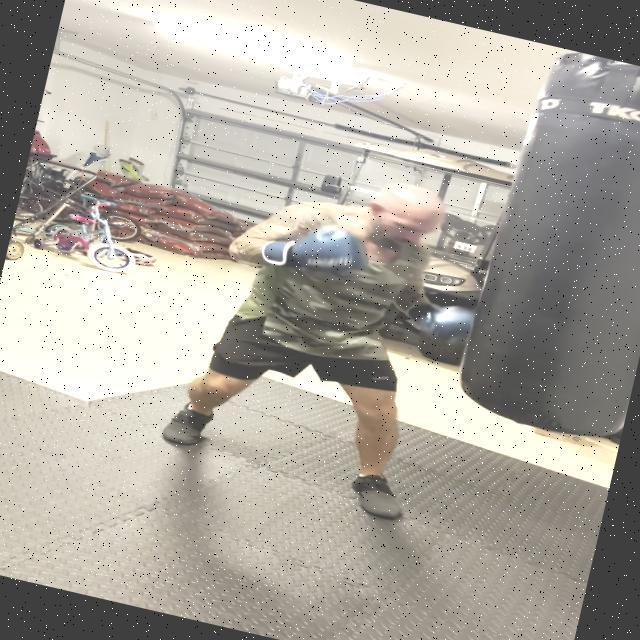bag: (452, 45, 640, 451)
uppercut: (223, 136, 542, 370)
